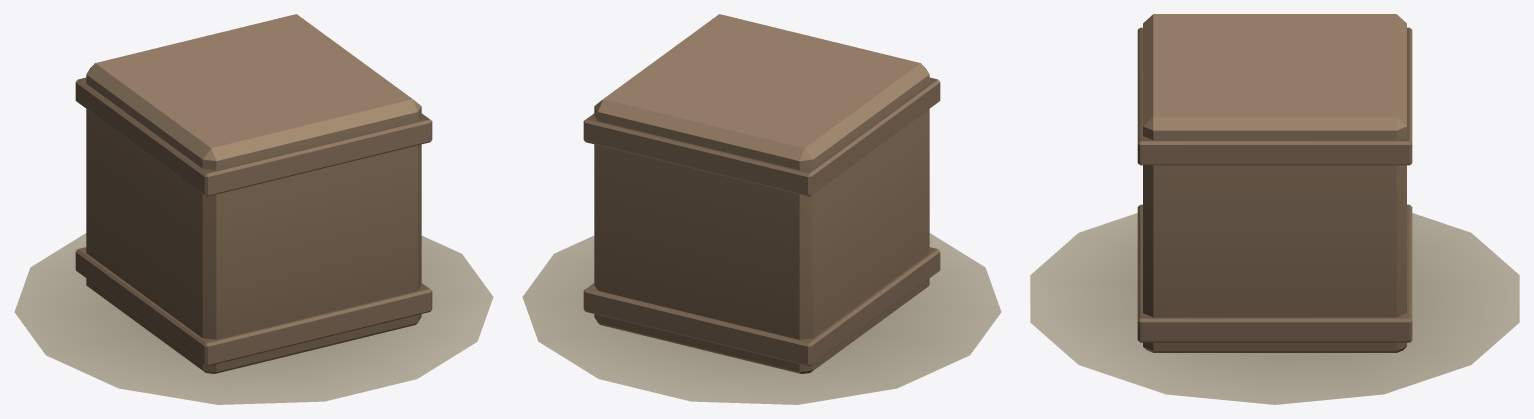
The model's file is crate.glb.
The picture shows the model from 3 angles, left to right: view 1: azimuth 30°, elevation 25°; view 2: azimuth 150°, elevation 25°; view 3: azimuth 270°, elevation 25°; orthographic projection. The views are drawn at different scales.
Parts seen in each view (by area): view 1: crate; view 2: crate; view 3: crate.
Boxes of the visible parts, box(x1,y1,x2,y2) form: crate: box(14, 14, 493, 404); crate: box(522, 14, 1001, 404); crate: box(1030, 14, 1519, 404).
Size of the model in its own units: 1.9 by 1 by 1.85.
